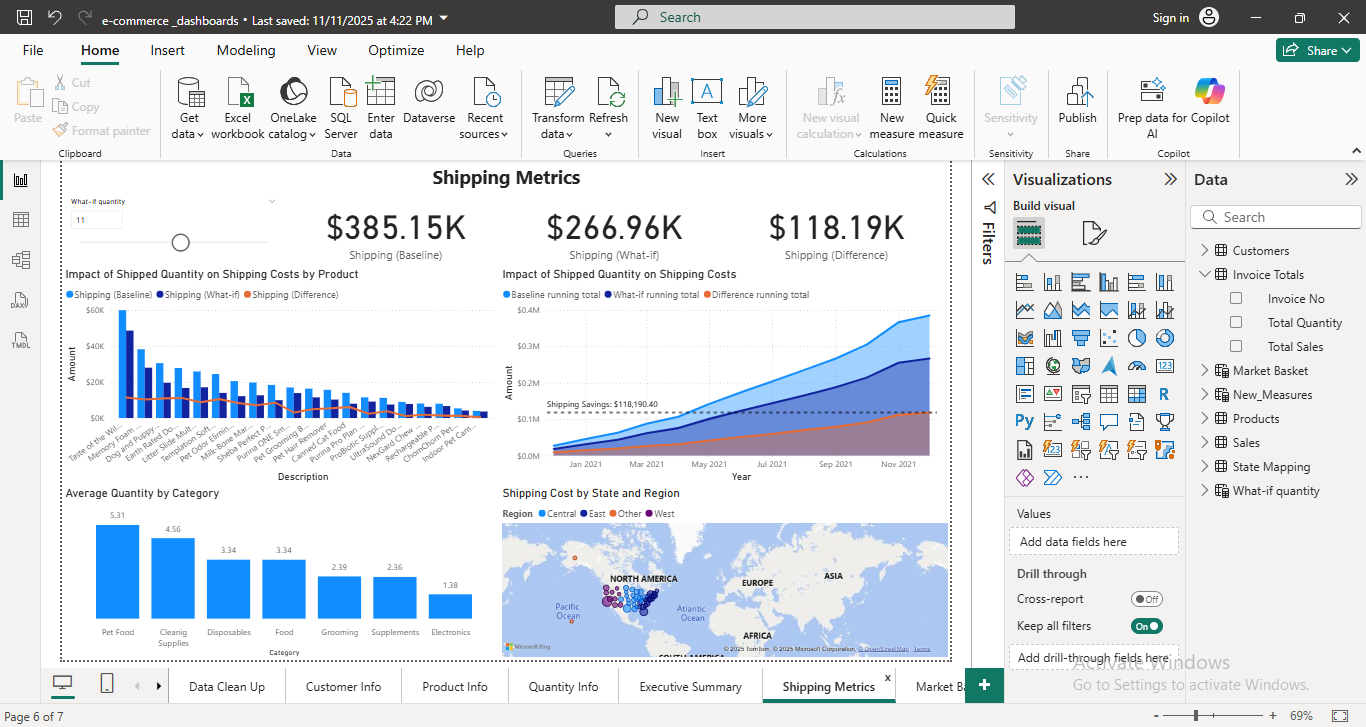

The dashboard page shown, as its layout file describes it:
{"tool":"powerbi","page":{"name":"Shipping Metrics","canvas":[1280,720],"ordinal":5},"visuals":[{"type":"slicer","fields":{"Values":["What-if quantity.What-if quantity"]},"box":[0,49.7,320.1,104.6],"z":0},{"type":"lineClusteredColumnComboChart","title":"Impact of Shipped Quantity on Shipping Costs by Product","fields":{"Category":["Sales.Description"],"Y":["Sales.Shipping (Baseline)","Sales.Shipping (What-if)"],"Y2":["Sales.Shipping (Difference)"]},"box":[0,154.3,628.7,314.8],"z":1000},{"type":"card","fields":{"Values":["Sales.Shipping (Baseline)"]},"box":[321,49.7,319.2,104.6],"z":2000},{"type":"card","fields":{"Values":["Sales.Shipping (What-if)"]},"box":[641.1,49.7,309.5,104.6],"z":3000},{"type":"card","fields":{"Values":["Sales.Shipping (Difference)"]},"box":[950.5,49.7,329.9,104.6],"z":4000},{"type":"areaChart","title":"Impact of Shipped Quantity on Shipping Costs","fields":{"Y":["Sales.Baseline running total","Sales.What-if running total","Sales.Difference running total"],"Category":["Sales.Transaction Date.Variation.Date Hierarchy.Year","Sales.Transaction Date.Variation.Date Hierarchy.Month"]},"box":[628.7,154.3,650.8,314.8],"z":5000},{"type":"map","title":"Shipping Cost by State and Region","fields":{"Size":["Sales.Shipping (Baseline)"],"Category":["State Mapping.State"],"Series":["State Mapping.Region"]},"box":[628.7,469.1,651.7,250.9],"z":6000},{"type":"textbox","box":[0,0,1279.5,49.7],"z":7000},{"type":"clusteredColumnChart","title":"Average Quantity by Category","fields":{"Y":["Avg(Sales.Quantity)"],"Category":["Products.Category"]},"box":[0,469,629,251],"z":8000}]}

Visuals, with their boxes on the page's 1280x720 design canvas (x1, y1, x2, y2). These are canvas units, not pixel positions in the 1366x727 screenshot, which may show the page scaled, cropped or inside an application window:
slicer - What-if quantity.What-if quantity: 0, 50, 320, 154
"Impact of Shipped Quantity on Shipping Costs by Product" lineClusteredColumnComboChart: 0, 154, 629, 469
card - Sales.Shipping (Baseline): 321, 50, 640, 154
card - Sales.Shipping (What-if): 641, 50, 951, 154
card - Sales.Shipping (Difference): 950, 50, 1280, 154
"Impact of Shipped Quantity on Shipping Costs" areaChart: 629, 154, 1280, 469
"Shipping Cost by State and Region" map: 629, 469, 1280, 720
textbox: 0, 0, 1280, 50
"Average Quantity by Category" clusteredColumnChart: 0, 469, 629, 720
